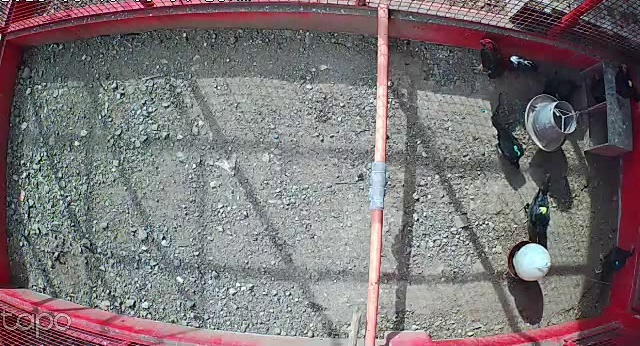Chicken: (590, 240, 635, 294), (520, 174, 555, 242), (492, 121, 527, 174), (607, 59, 640, 104), (537, 72, 583, 102)
Rooster: (469, 34, 540, 81)
Saddle_Color_Blue: (615, 261, 619, 266)
Saddle_Color_Yellow: (537, 207, 550, 213)
